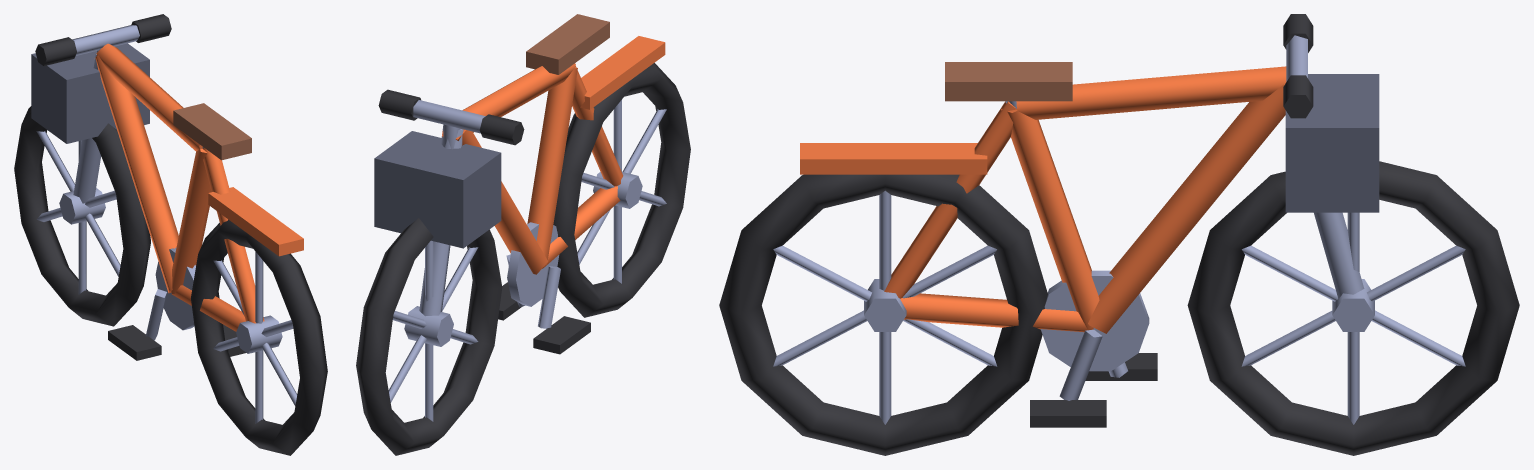
Rendered from velo.glb.
The picture shows the model from 3 angles, left to right: view 1: azimuth 30°, elevation 25°; view 2: azimuth 150°, elevation 25°; view 3: azimuth 270°, elevation 25°; orthographic projection. The views are drawn at different scales.
Parts seen in each view (by area): view 1: roue-arriere-pneu, roue-avant-pneu, panier, tube-diagonal, garde-boue-ar, tube-selle, tube-horizontal, selle, haubans, fourche, plateau, roue-arriere-rayon-0 (+13 smaller); view 2: roue-avant-pneu, roue-arriere-pneu, panier, tube-selle, selle, garde-boue-ar, tube-horizontal, tube-diagonal, plateau, haubans, base, fourche (+14 smaller); view 3: roue-arriere-pneu, roue-avant-pneu, panier, tube-diagonal, tube-horizontal, tube-selle, garde-boue-ar, selle, plateau, haubans, base, roue-avant-rayon-2 (+13 smaller).
Part boxes in pixels (box(x1,y1,x2,y2)): roue-arriere-pneu: box(191, 219, 327, 455); roue-avant-pneu: box(14, 106, 150, 326); panier: box(31, 43, 149, 143); tube-diagonal: box(95, 50, 178, 293); garde-boue-ar: box(208, 187, 303, 256); tube-selle: box(171, 148, 211, 293); tube-horizontal: box(96, 43, 202, 151); selle: box(173, 103, 251, 160); haubans: box(202, 148, 264, 323); fourche: box(73, 54, 101, 203); plateau: box(155, 247, 195, 330); roue-arriere-rayon-0: box(255, 251, 263, 423); roue-avant-pneu: box(356, 218, 502, 455); roue-arriere-pneu: box(553, 63, 690, 317); panier: box(374, 131, 501, 248); tube-selle: box(527, 67, 577, 264); selle: box(526, 14, 609, 74); garde-boue-ar: box(572, 36, 665, 109); tube-horizontal: box(462, 63, 575, 132); tube-diagonal: box(442, 129, 548, 274); plateau: box(507, 222, 559, 306); haubans: box(572, 66, 623, 186); base: box(542, 186, 620, 268); fourche: box(419, 126, 463, 316); roue-arriere-pneu: box(719, 174, 1047, 455); roue-avant-pneu: box(1187, 161, 1519, 455); panier: box(1285, 74, 1379, 212); tube-diagonal: box(1088, 84, 1285, 333); tube-horizontal: box(1016, 66, 1286, 119); tube-selle: box(1001, 109, 1099, 328); garde-boue-ar: box(800, 143, 987, 174); selle: box(945, 62, 1072, 101); plateau: box(1040, 270, 1149, 371); haubans: box(884, 101, 1016, 298); base: box(900, 293, 1093, 332); roue-avant-rayon-2: box(1241, 245, 1465, 366).
Bounding box in the file's own units: 0.0225 × 0.052 × 0.094.
